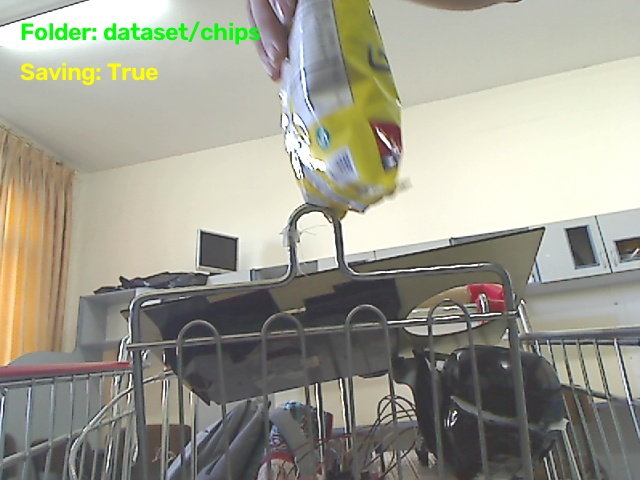chips: (280, 0, 401, 216)
